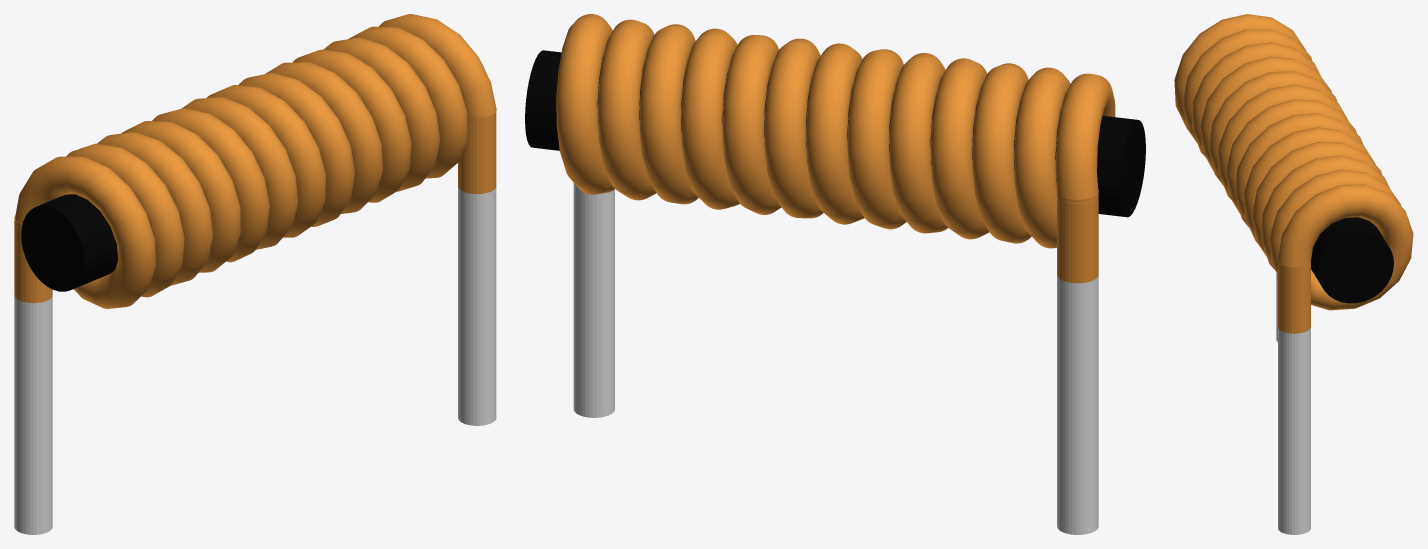
File: Inductor.glb
The picture shows the model from 3 angles, left to right: view 1: azimuth 30°, elevation 25°; view 2: azimuth 150°, elevation 25°; view 3: azimuth 270°, elevation 25°; orthographic projection. The views are drawn at different scales.
Parts seen in each view (by area): view 1: Circle, Leg1, Leg2, Inductor; view 2: Circle, Leg2, Leg1, Inductor; view 3: Circle, Leg1, Inductor.
Part boxes in pixels (box(x1,y1,x2,y2)): Circle: box(14, 14, 496, 308); Leg1: box(458, 111, 496, 425); Leg2: box(14, 216, 52, 534); Inductor: box(21, 64, 484, 291); Circle: box(556, 14, 1115, 248); Leg2: box(1057, 190, 1098, 534); Leg1: box(573, 183, 614, 417); Inductor: box(525, 50, 1145, 217); Circle: box(1174, 14, 1413, 310); Leg1: box(1278, 262, 1310, 534); Inductor: box(1311, 217, 1393, 303).
Size of the model in its own units: 0.2187 by 0.1615 by 0.1051.
